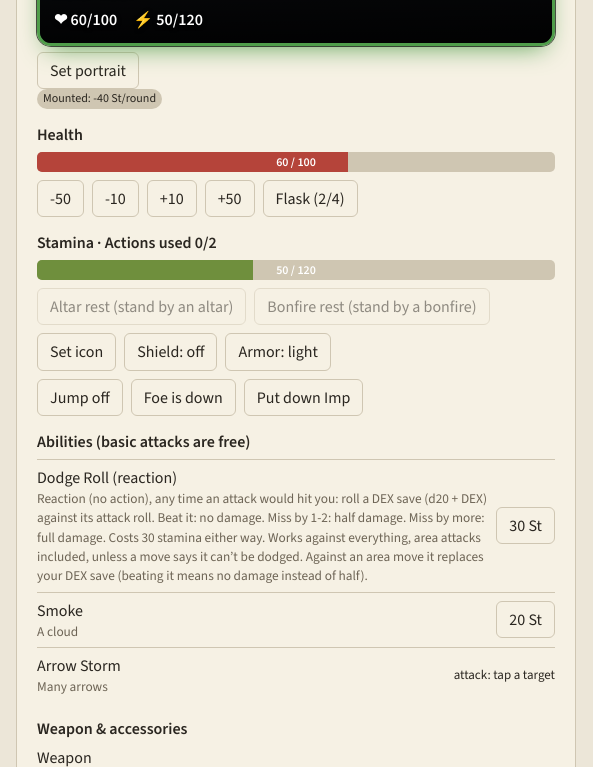
Scenario: <SheetScreen /> for a player › climbing a monster: foe down or up, jumping off, and carried monsters
Later steps or results of the test are not shown.
(page scrolled)
Click the button "Foe is down" at (183, 397), box [131,378,236,416]
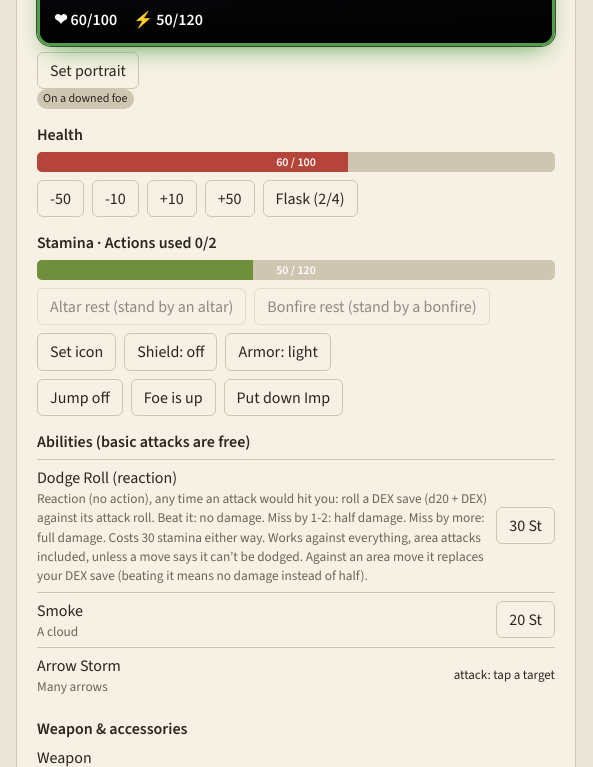
Expected: the button "Foe is up" is shown, [131,378,216,416]
